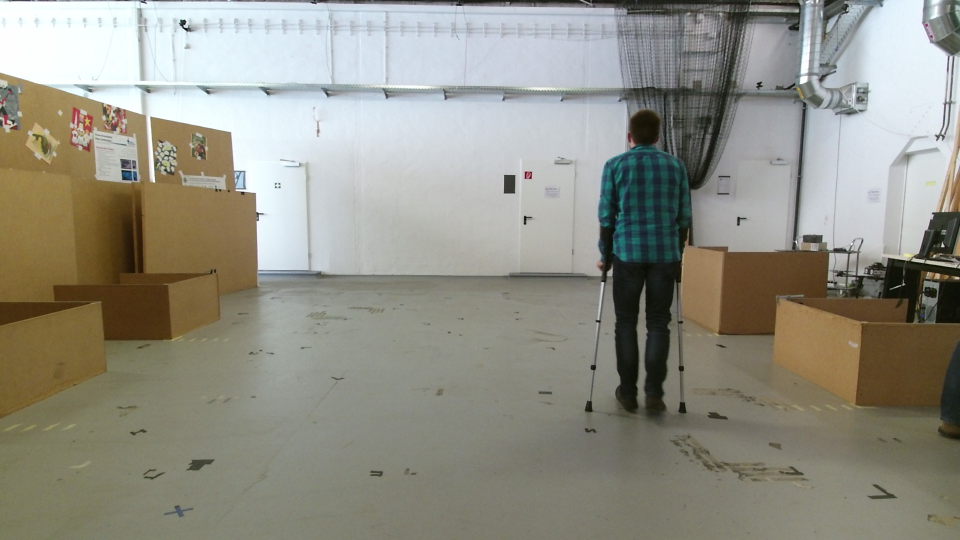crutches: (576, 101, 703, 428)
